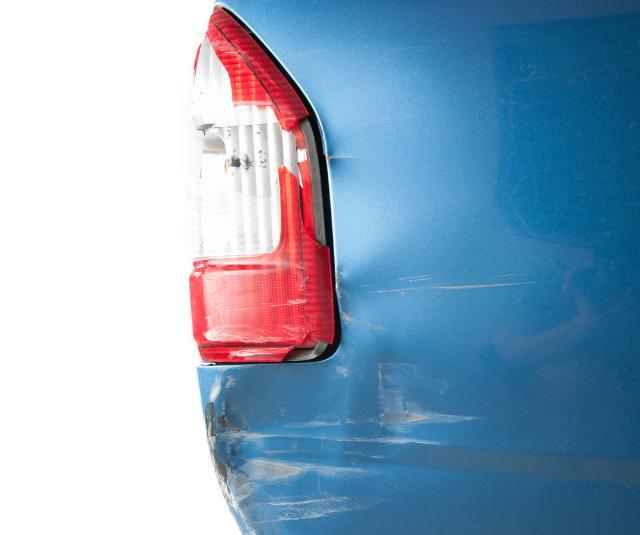dent: (202, 238, 467, 532), (318, 106, 388, 186)
lamp broken: (189, 7, 336, 364)
